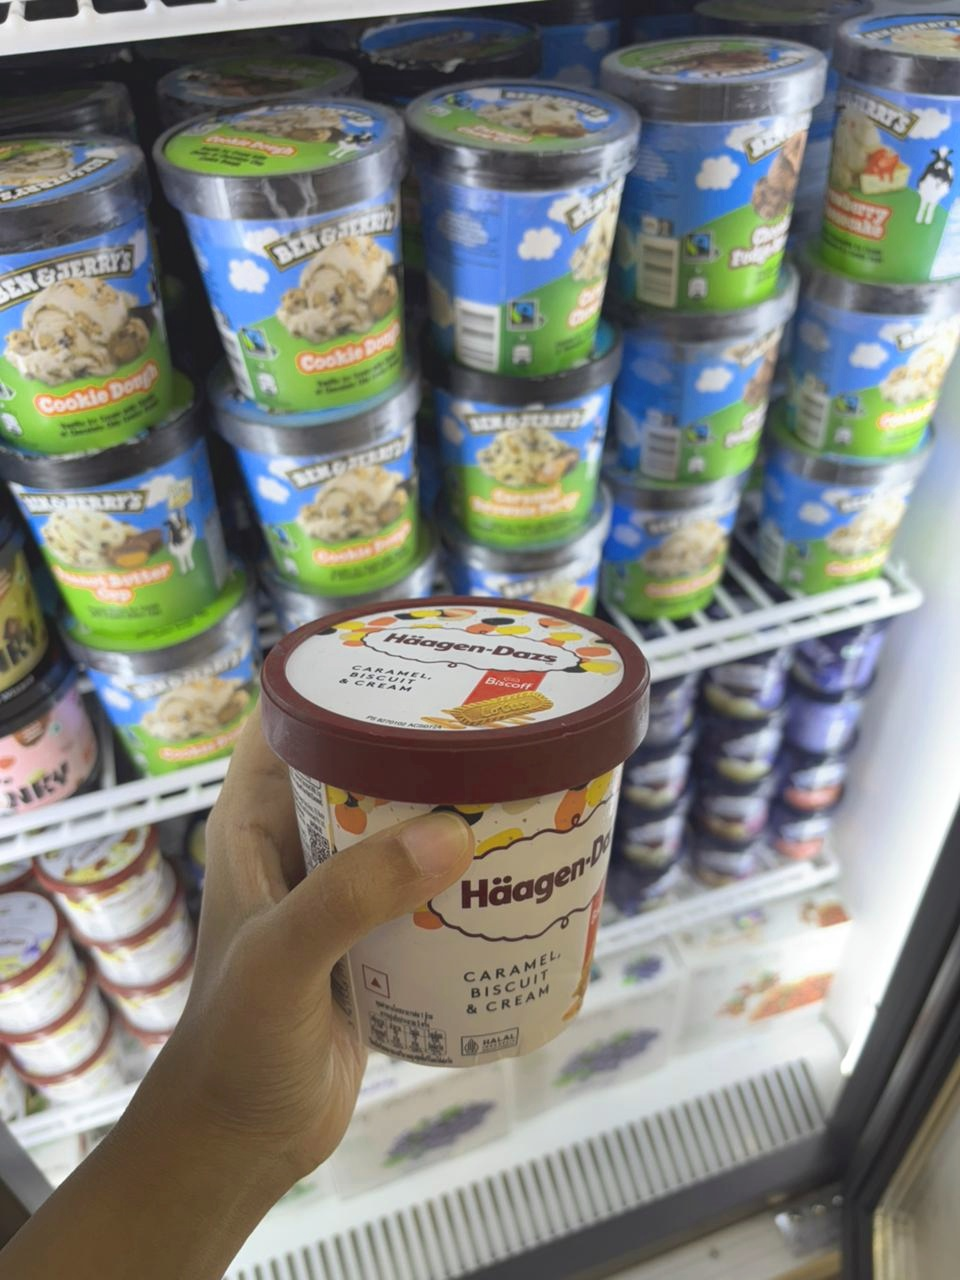Haagen-Dazs IceCream Tub: (217, 591, 708, 1092)
